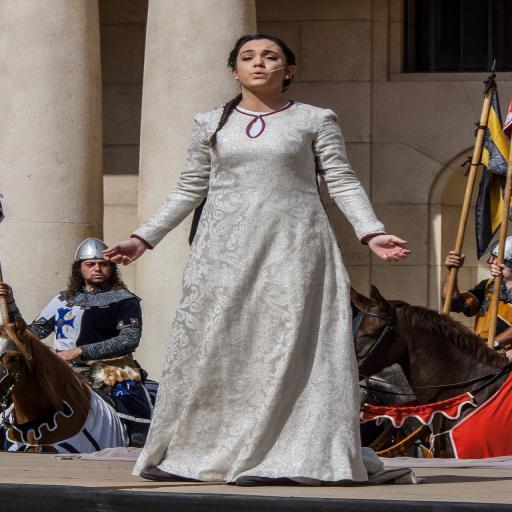horse: (348, 286, 511, 459), (0, 315, 147, 453)
